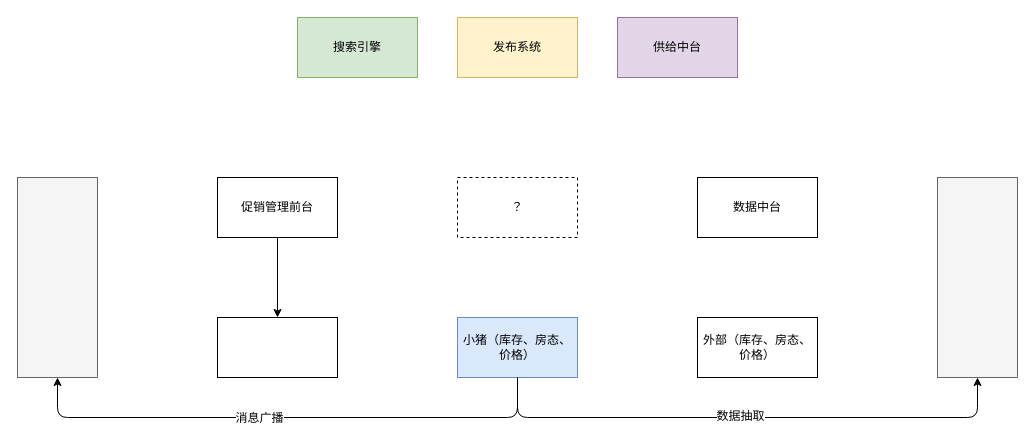
Some shapes in this 1035 by 443 pixel diagram are drawn without their labels. The shapes that lost their labels are listed below. From the top down, each one's centre as x and y in pixels, then its label:
At [57,277]: "消息中心".
At [977,277]: "数据仓库".
At [277,347]: "促销服务".
